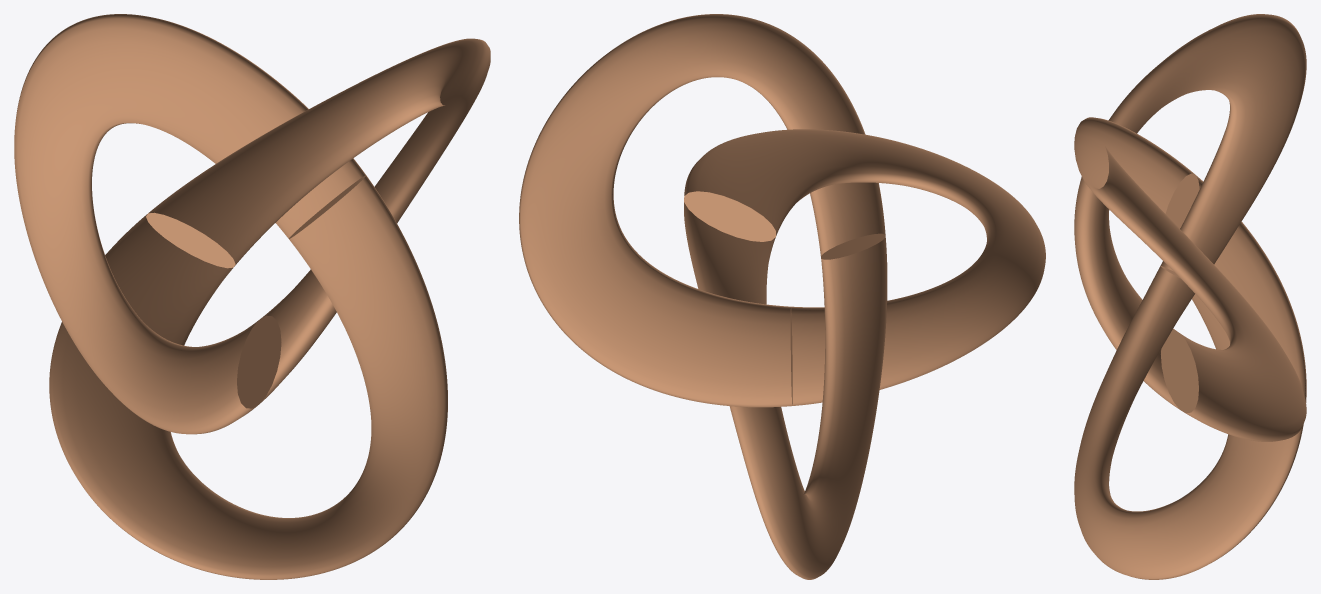
File: singular.glb
3 views of the same model, side by side, from view 1: azimuth 30°, elevation 25°; view 2: azimuth 150°, elevation 25°; view 3: azimuth 270°, elevation 25° (orthographic). The views are drawn at different scales.
Parts seen in each view (by area): view 1: Singular_2, Singular_3, Singular_1; view 2: Singular_1, Singular_3, Singular_2; view 3: Singular_2, Singular_3, Singular_1.
Part boxes in pixels (x1=…): Singular_2: x1=49, y1=175, x2=447, y2=579; Singular_3: x1=14, y1=14, x2=366, y2=434; Singular_1: x1=148, y1=38, x2=490, y2=408; Singular_1: x1=519, y1=14, x2=885, y2=407; Singular_3: x1=684, y1=129, x2=1045, y2=405; Singular_2: x1=684, y1=191, x2=887, y2=579; Singular_2: x1=1074, y1=173, x2=1306, y2=579; Singular_3: x1=1074, y1=14, x2=1306, y2=413; Singular_1: x1=1074, y1=117, x2=1306, y2=441.
Bounding box in the file's own units: 2.73 × 2.83 × 1.21.
